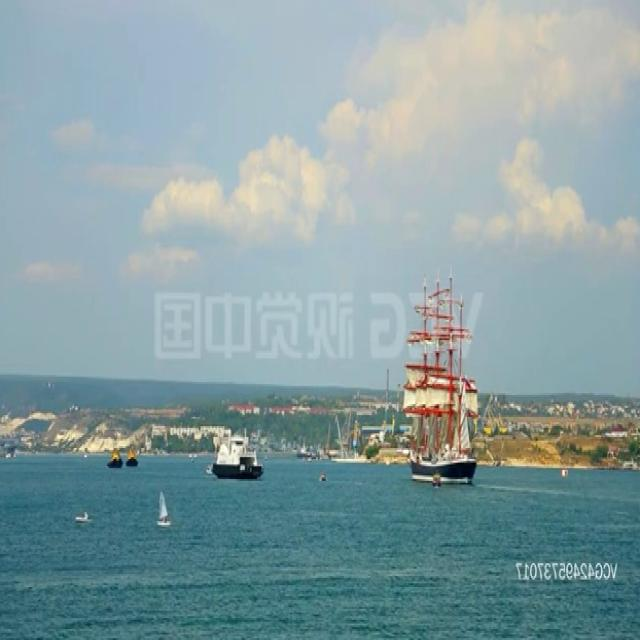houseboat: (216, 428, 264, 477), (128, 439, 138, 471), (73, 509, 91, 525), (109, 445, 121, 469), (430, 473, 443, 488), (318, 470, 328, 480)
sailboat: (402, 270, 478, 480), (155, 488, 173, 530)
